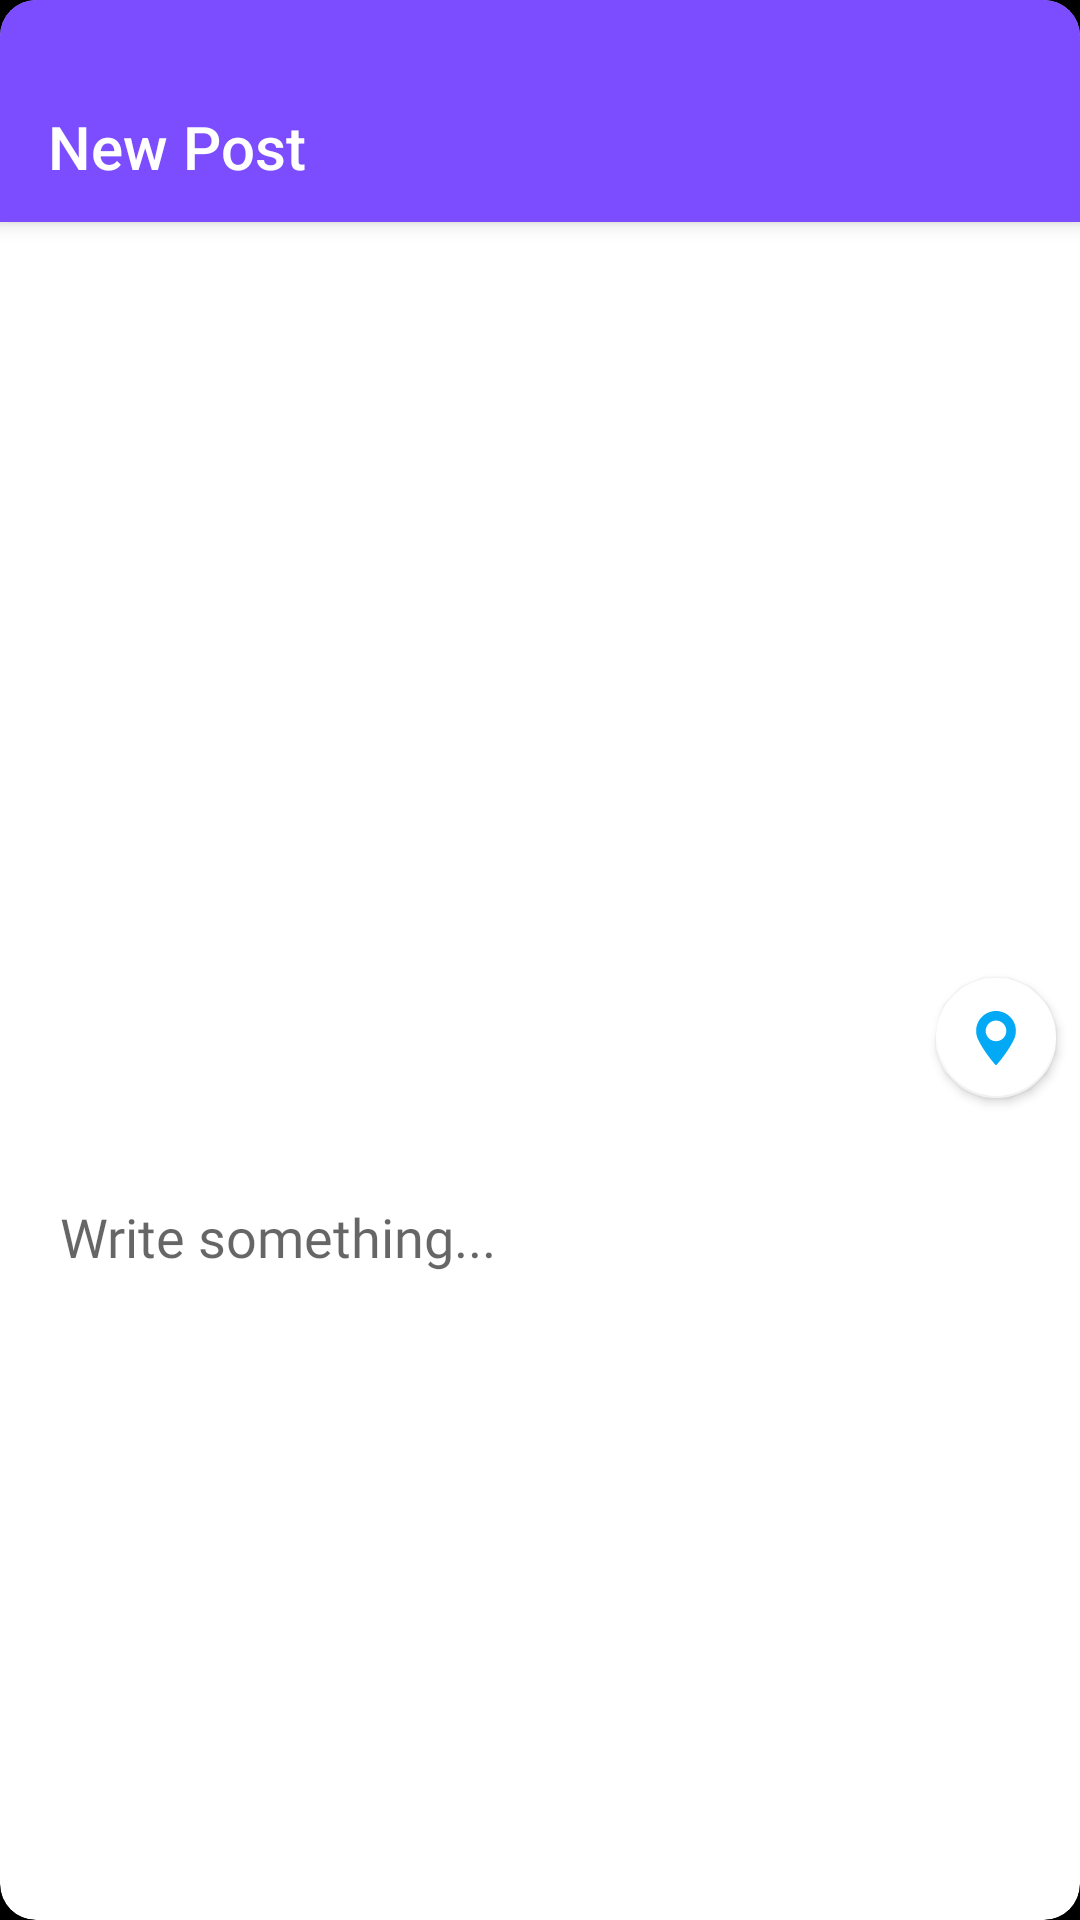

Named icons in this screenshot (1080x1920) and their centers, point (x, y):
location: point (1000, 1054)
